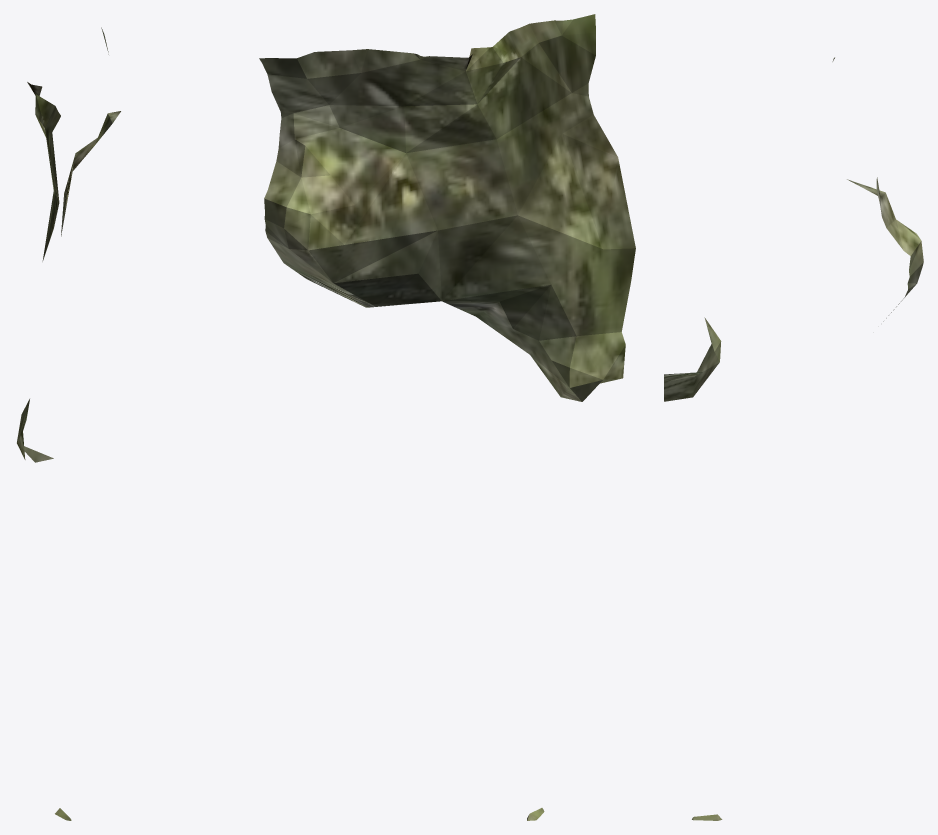
3 renders of one model, left to right at view 1: azimuth 30°, elevation 25°; view 2: azimuth 150°, elevation 25°; view 3: azimuth 270°, elevation 25°, orthographic. The views are drawn at different scales.
Bounding box in the file's own units: 0.9606 × 2.95 × 0.882.
Materials: 1 (1 with a texture image).
